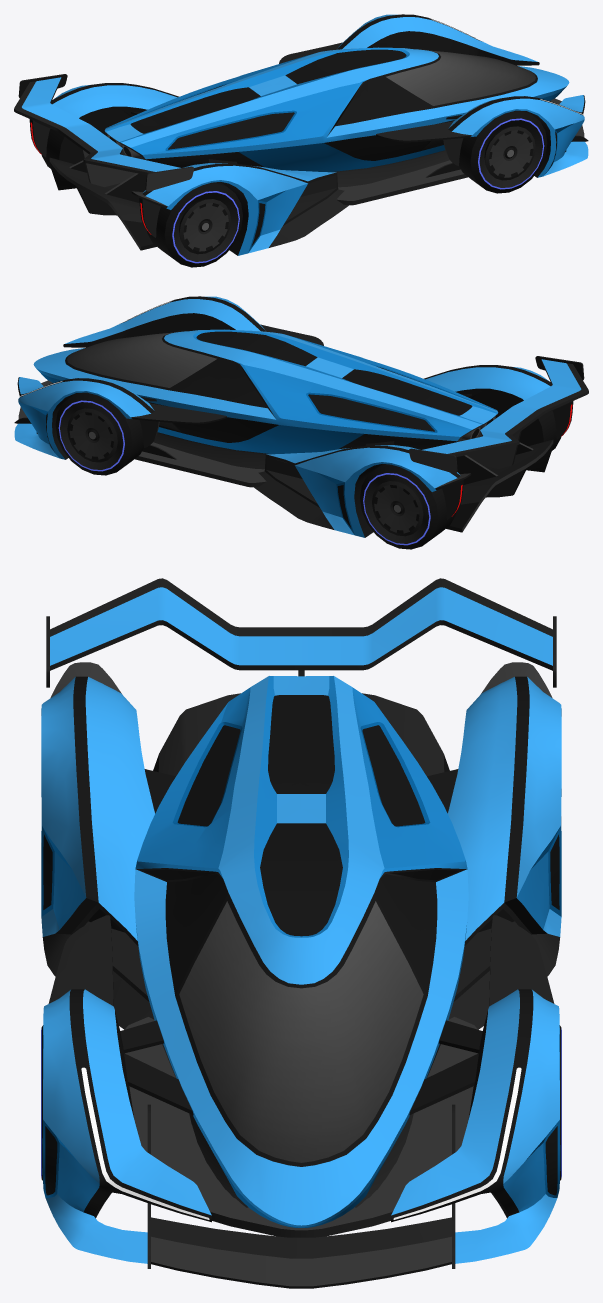
Rendered from RaceCar_027.glb.
3 renders of one model, top to bottom at view 1: azimuth 30°, elevation 25°; view 2: azimuth 150°, elevation 25°; view 3: azimuth 270°, elevation 25°, orthographic. The views are drawn at different scales.
Parts seen in each view (by area): view 1: RaceCar_027, wheel_3_RaceCar_027_Wheel_2R, wheel_1_RaceCar_027_Wheel_1R, wheel_2_RaceCar_027_Wheel_2L; view 2: RaceCar_027, wheel_2_RaceCar_027_Wheel_2L, wheel_0_RaceCar_027_Wheel_1L, wheel_3_RaceCar_027_Wheel_2R; view 3: RaceCar_027.
Part boxes in pixels (bbox=[...]): RaceCar_027: bbox=[14, 14, 588, 255]; wheel_3_RaceCar_027_Wheel_2R: bbox=[147, 182, 242, 267]; wheel_1_RaceCar_027_Wheel_1R: bbox=[459, 110, 547, 193]; wheel_2_RaceCar_027_Wheel_2L: bbox=[41, 108, 130, 168]; RaceCar_027: bbox=[14, 296, 588, 537]; wheel_2_RaceCar_027_Wheel_2L: bbox=[360, 464, 455, 549]; wheel_0_RaceCar_027_Wheel_1L: bbox=[55, 392, 143, 475]; wheel_3_RaceCar_027_Wheel_2R: bbox=[472, 390, 561, 450]; RaceCar_027: bbox=[41, 578, 561, 1288].
Size of the model in its own units: 5.16 by 1.05 by 2.23.
2 materials, 2 textured.
